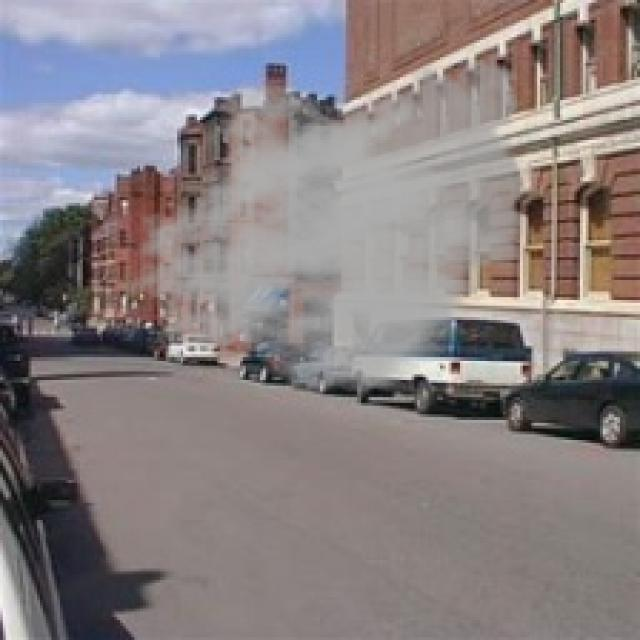smoke: (123, 43, 543, 394)
